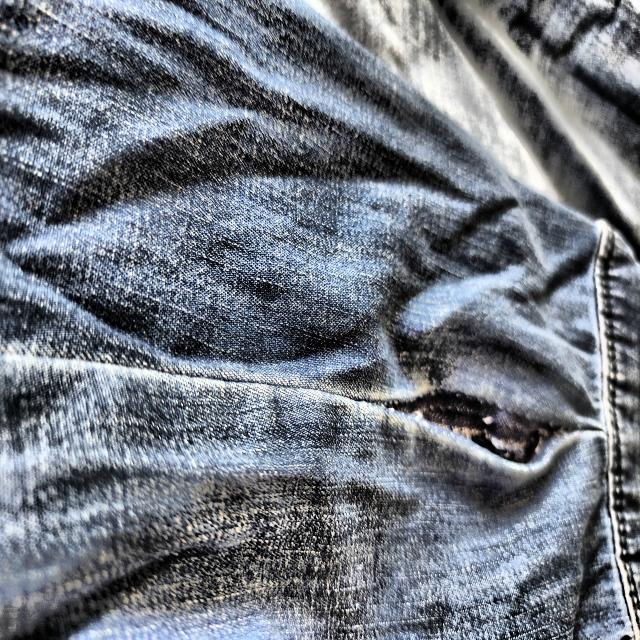seam: (366, 363, 591, 490)
